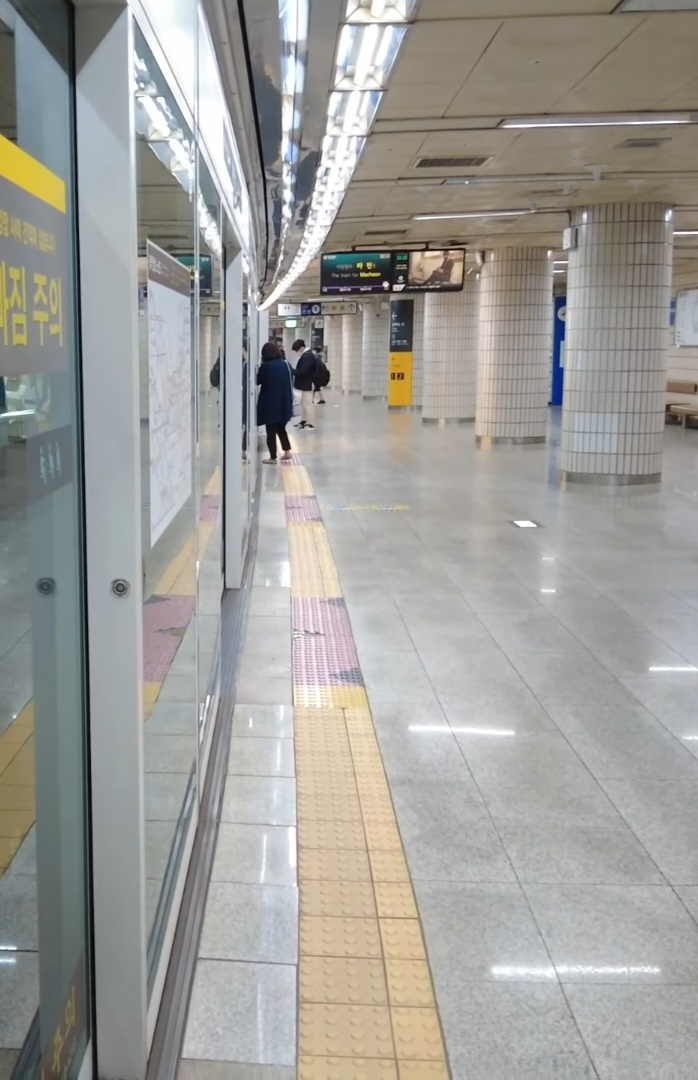warningBlock: (291, 986, 453, 1049), (291, 713, 380, 788), (297, 879, 423, 931), (296, 950, 434, 997), (298, 749, 390, 817), (302, 851, 408, 908), (295, 918, 426, 961), (302, 822, 411, 873), (300, 787, 397, 839), (288, 687, 369, 725)
